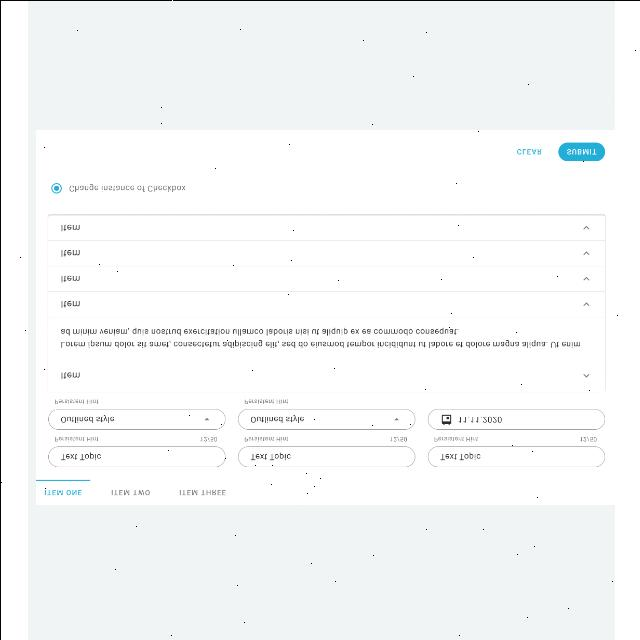QLabel: (55, 326, 581, 349), (67, 182, 185, 192), (177, 488, 225, 496), (41, 488, 80, 496), (109, 489, 149, 495), (514, 147, 540, 155), (58, 248, 78, 258), (58, 222, 78, 232), (565, 148, 595, 154), (58, 300, 78, 308), (58, 274, 78, 282)
VBtn: (557, 141, 605, 161)
VCombobox: (46, 398, 224, 430), (236, 398, 414, 428)
VExpansionPanel: (48, 318, 602, 390), (48, 292, 602, 314), (48, 267, 602, 289), (48, 241, 602, 263), (48, 216, 602, 238)
VInlineDatepicker: (426, 408, 604, 430)
VRadio: (48, 180, 60, 193)
VTabs: (32, 129, 614, 505)
VTextField: (46, 434, 224, 466), (236, 434, 414, 466), (426, 434, 604, 466)
